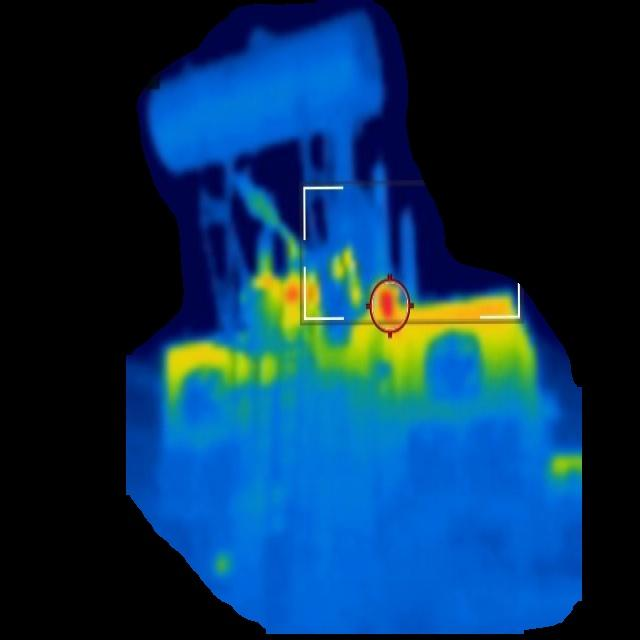Loose Joint F: (369, 282, 403, 326)
Loose Joint PF: (260, 274, 319, 321)
Point Overload PF: (244, 190, 299, 266)
Transformer Overload: (161, 297, 534, 415)
